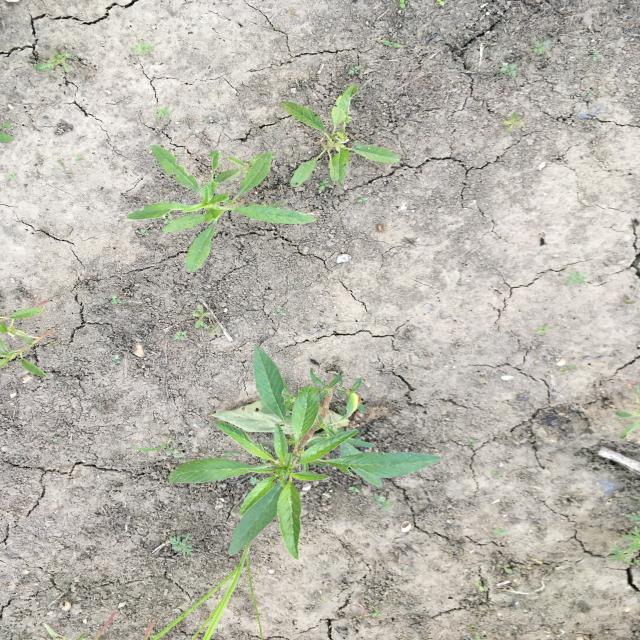Ragweed: (609, 507, 637, 571), (166, 531, 196, 558)
Waterhemp: (166, 344, 444, 562), (125, 144, 318, 275), (277, 83, 403, 189), (0, 300, 58, 380)
